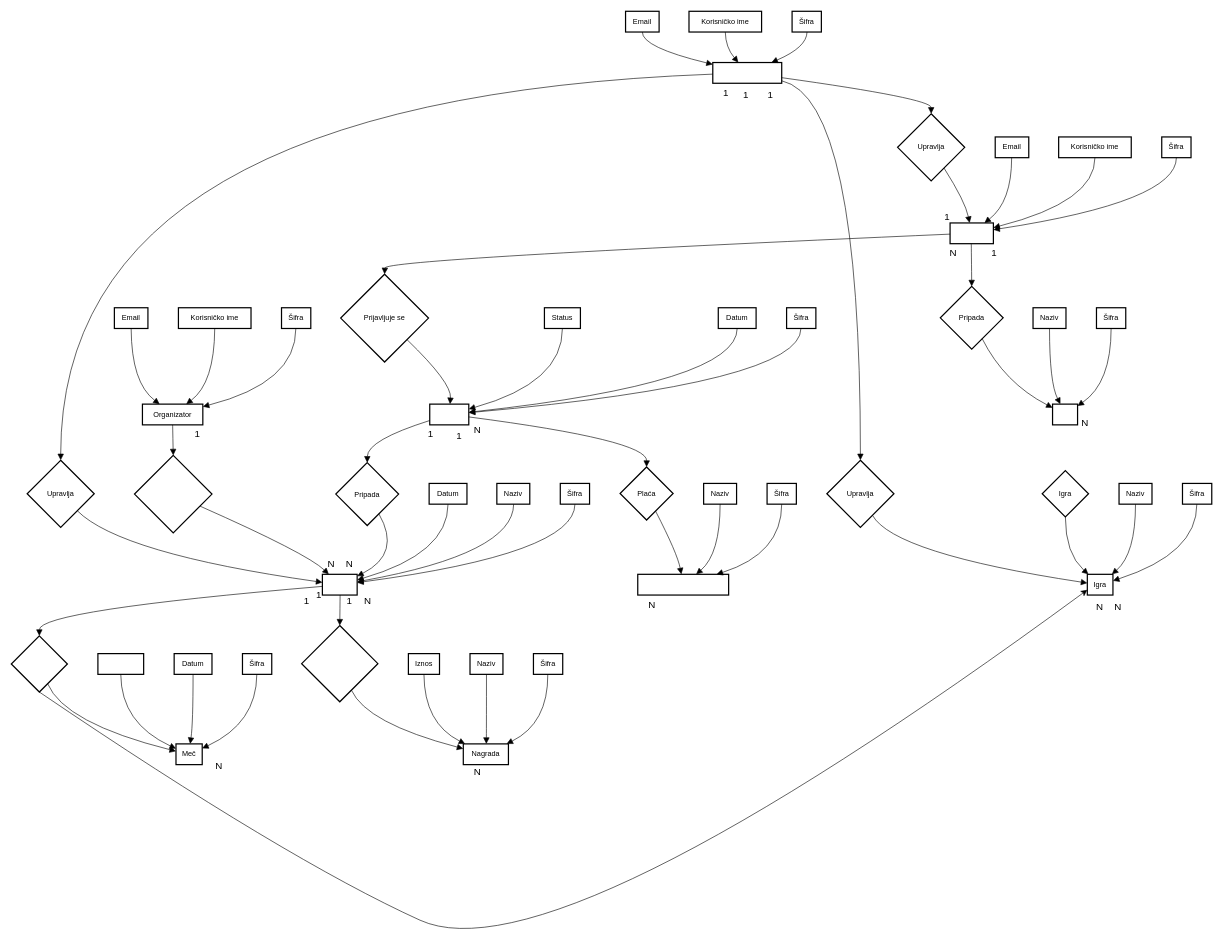
Image size: 1222x939. Some labels were removed from this diagram. The centre of each missing label's shape, as x and y in pixels:
Administrator: the point at 747,73
Dodjeljuje: the point at 339,663
Korisnik: the point at 971,233
Organizuje: the point at 173,493
Prijava: the point at 449,414
Rezultat: the point at 120,664
Sadrži: the point at 39,663
Sistem za Plaćanje: the point at 683,584
Tim: the point at 1065,414
Turnir: the point at 339,584
